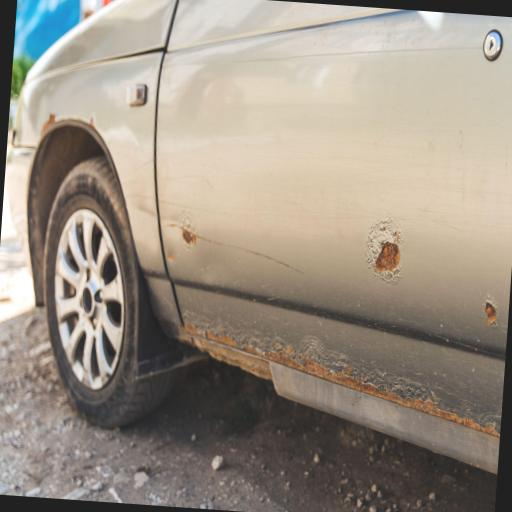segmentation: (184, 323, 500, 436), (187, 334, 272, 379), (375, 242, 400, 273), (484, 297, 497, 327), (41, 113, 55, 134), (182, 227, 196, 245)
